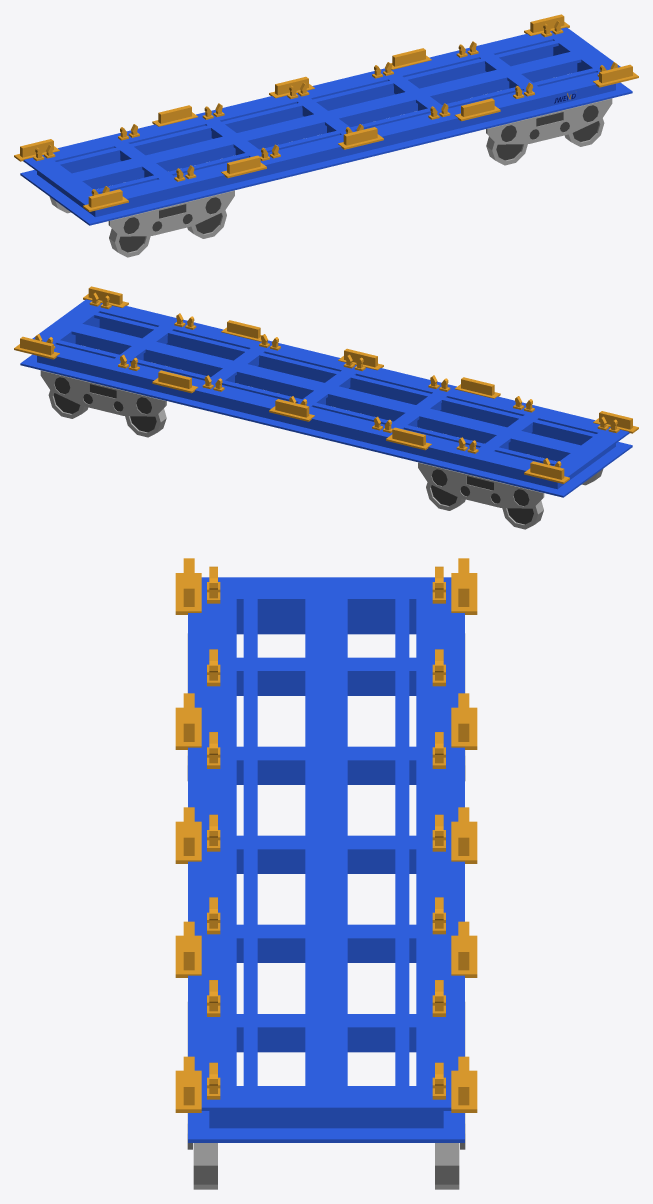
File: 集装箱平车3d.FBX
3 views of the same model, one above another, from view 1: azimuth 30°, elevation 25°; view 2: azimuth 150°, elevation 25°; view 3: azimuth 270°, elevation 25° (orthographic). The views are drawn at different scales.
Parts seen in each view (by area): view 1: 物件_47, 物件_48, 物件_42, 物件_44; view 2: 物件_47, 物件_48, 物件_42, 物件_44; view 3: 物件_47, 物件_48, 物件_42.
Part boxes in pixels (box(x1,y1,x2,y2)): 物件_47: box(20, 27, 632, 225); 物件_48: box(14, 14, 638, 211); 物件_42: box(49, 98, 612, 257); 物件_44: box(119, 105, 599, 252); 物件_47: box(20, 299, 632, 497); 物件_48: box(14, 286, 638, 483); 物件_42: box(40, 370, 603, 529); 物件_44: box(53, 377, 533, 524); 物件_47: box(188, 577, 464, 1142); 物件_48: box(175, 558, 477, 1112); 物件_42: box(187, 633, 465, 1189).
Bounding box in the file's own units: 640 × 79.2 × 152.
